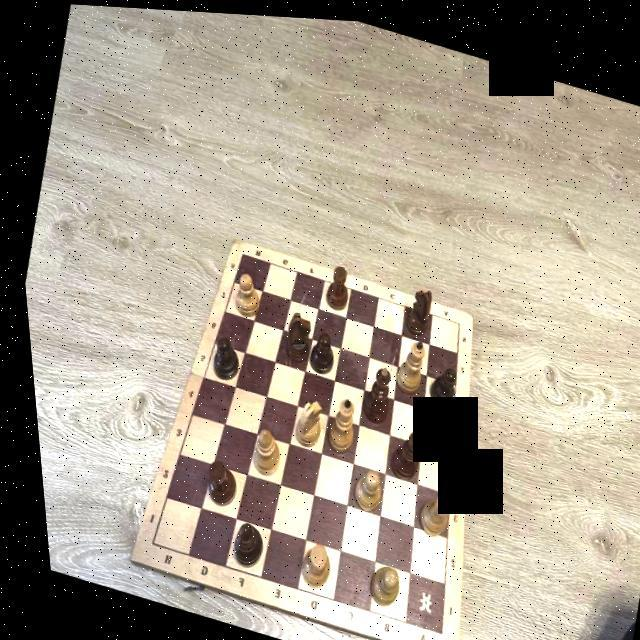chess-table-corners: (134, 533, 150, 552), (422, 619, 437, 638), (232, 244, 244, 259), (448, 314, 458, 323)
